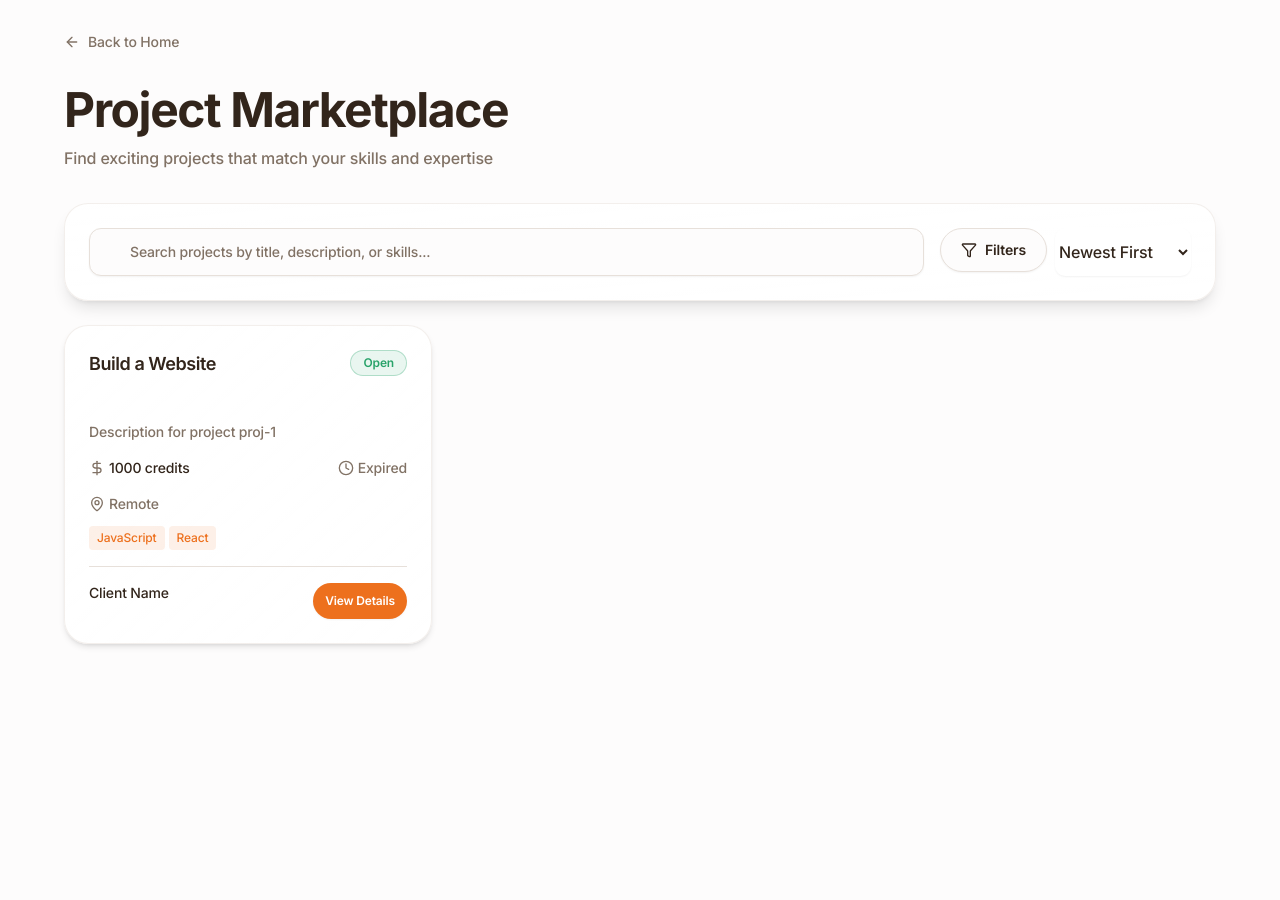
it: Marketplace Page - Integration Tests › Search & Filters › location quick filter buttons work
The width and height of the screenshot is (1280, 900).
Expected: the heading "Build a Website" is shown, left=89, top=353, right=216, bottom=374
Step 1. Click the button with test id "toggle-filters-button" → click(994, 250), box left=940, top=228, right=1047, bottom=272
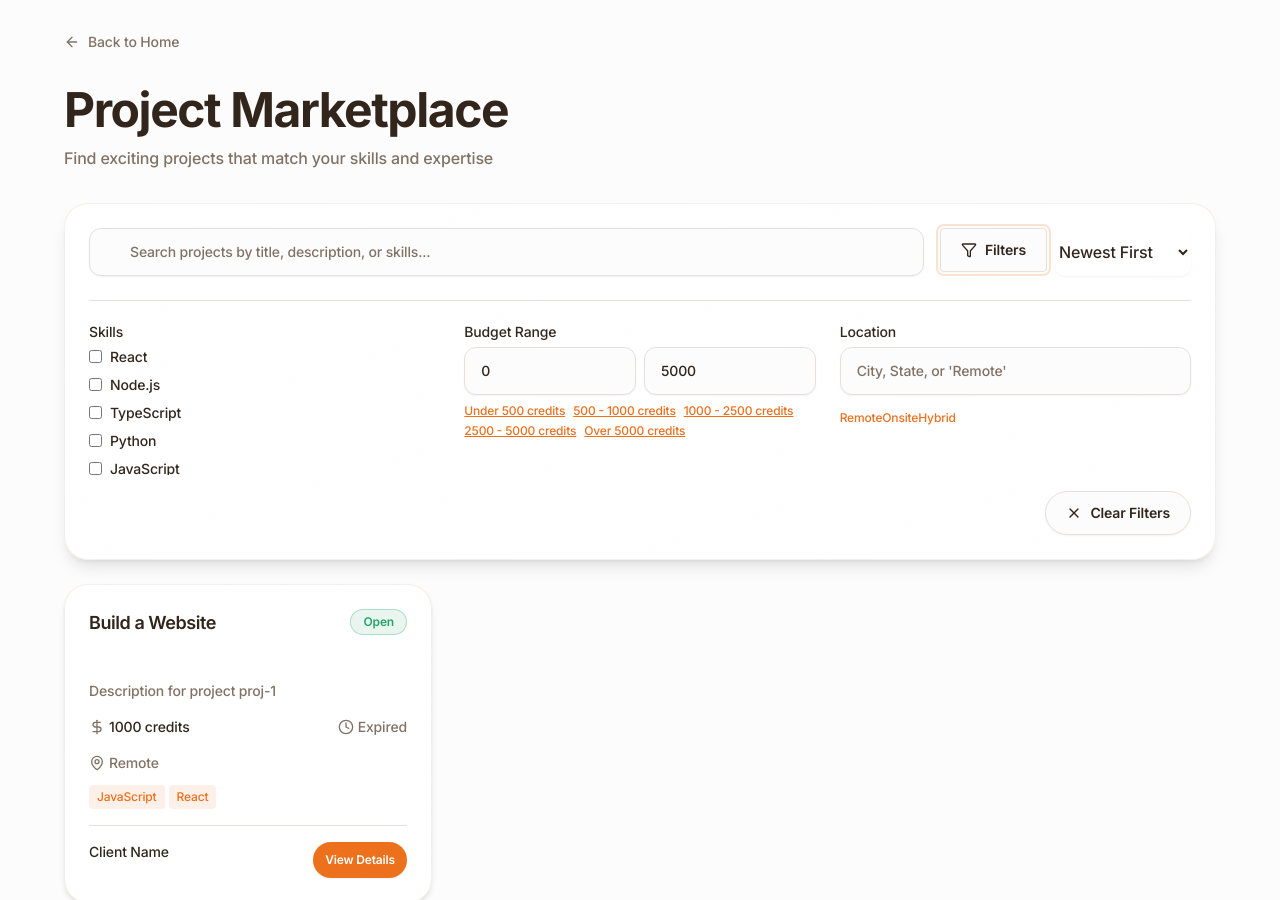
Step 2. Click the button "Remote" → click(861, 418), box left=840, top=410, right=882, bottom=426
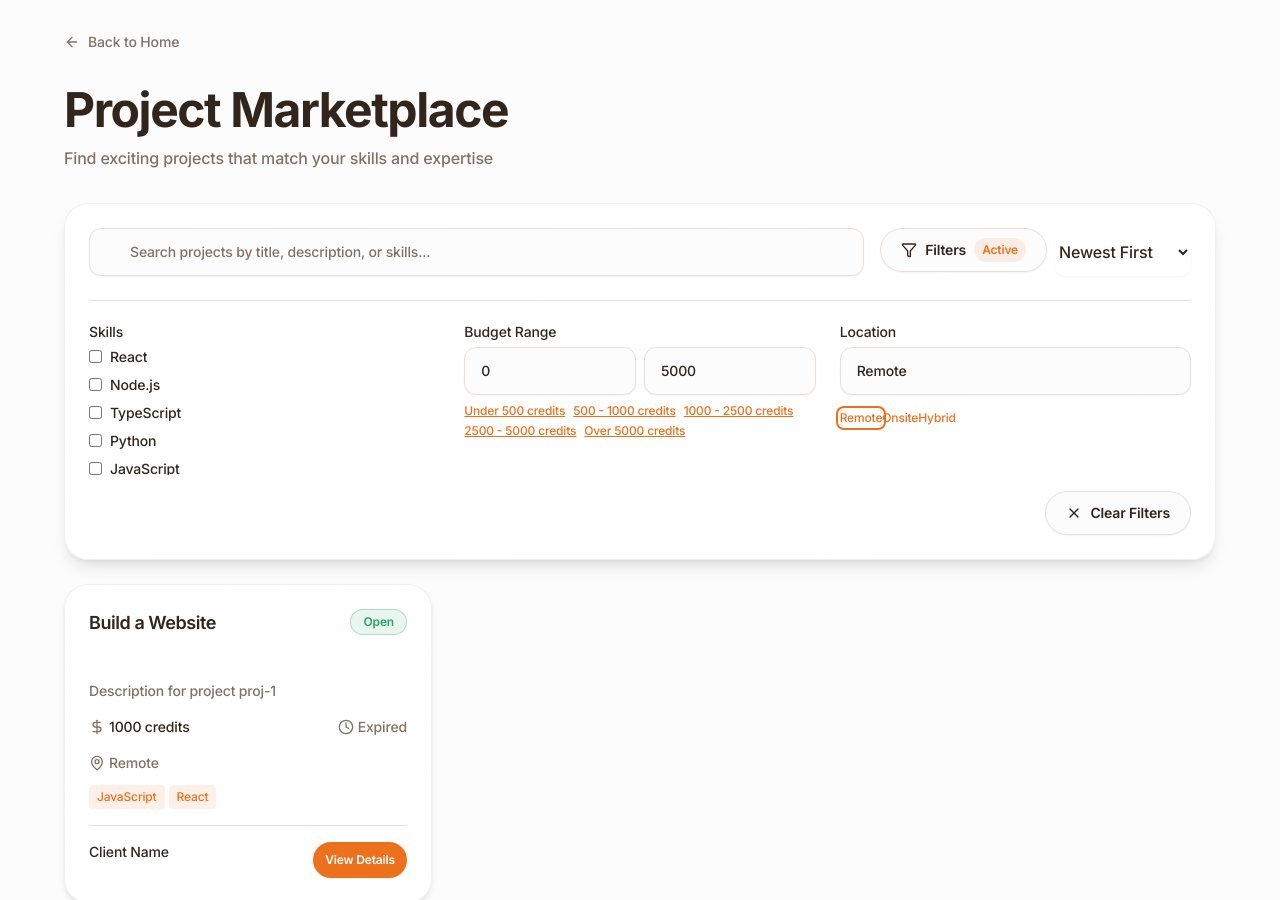
Now the field with test id "location-filter-input" holds "Remote", box left=840, top=347, right=1191, bottom=395
